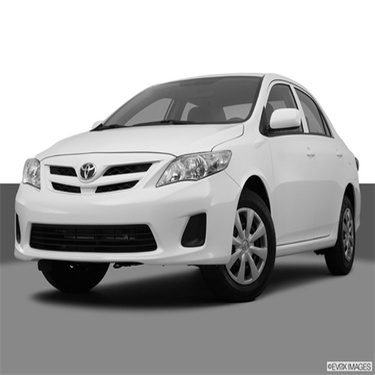car: (1, 66, 366, 295)
